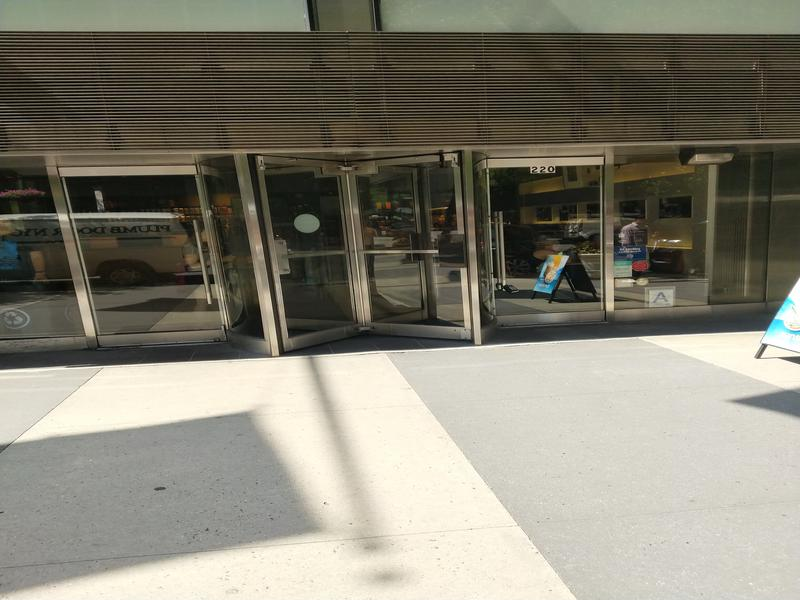revolving_door: (197, 142, 500, 359)
